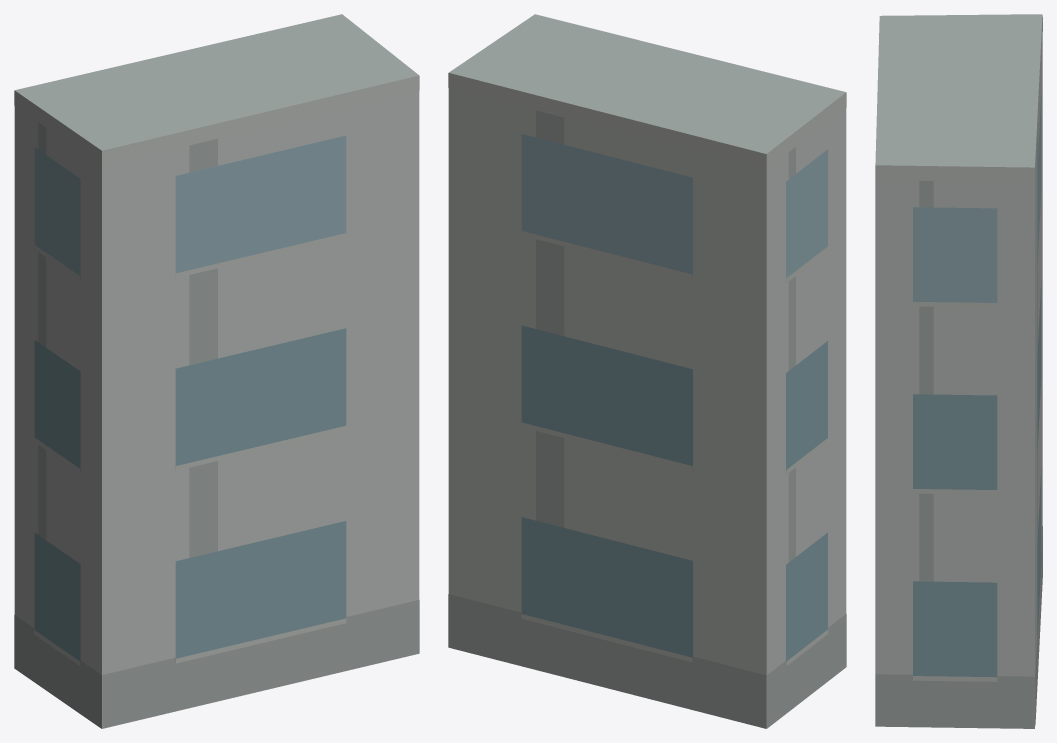
File: survey-upis-33028900.glb
The picture shows the model from 3 angles, left to right: view 1: azimuth 30°, elevation 25°; view 2: azimuth 150°, elevation 25°; view 3: azimuth 270°, elevation 25°; orthographic projection. The views are drawn at different scales.
Visible parts, largest first — view 1: survey-upis-33028900.tmp; view 2: survey-upis-33028900.tmp; view 3: survey-upis-33028900.tmp.
Part boxes in pixels (bbox=[...]): survey-upis-33028900.tmp: bbox=[14, 14, 419, 728]; survey-upis-33028900.tmp: bbox=[448, 14, 846, 728]; survey-upis-33028900.tmp: bbox=[875, 14, 1042, 728].
Bounding box in the file's own units: 5.38 × 9.15 × 2.48.
